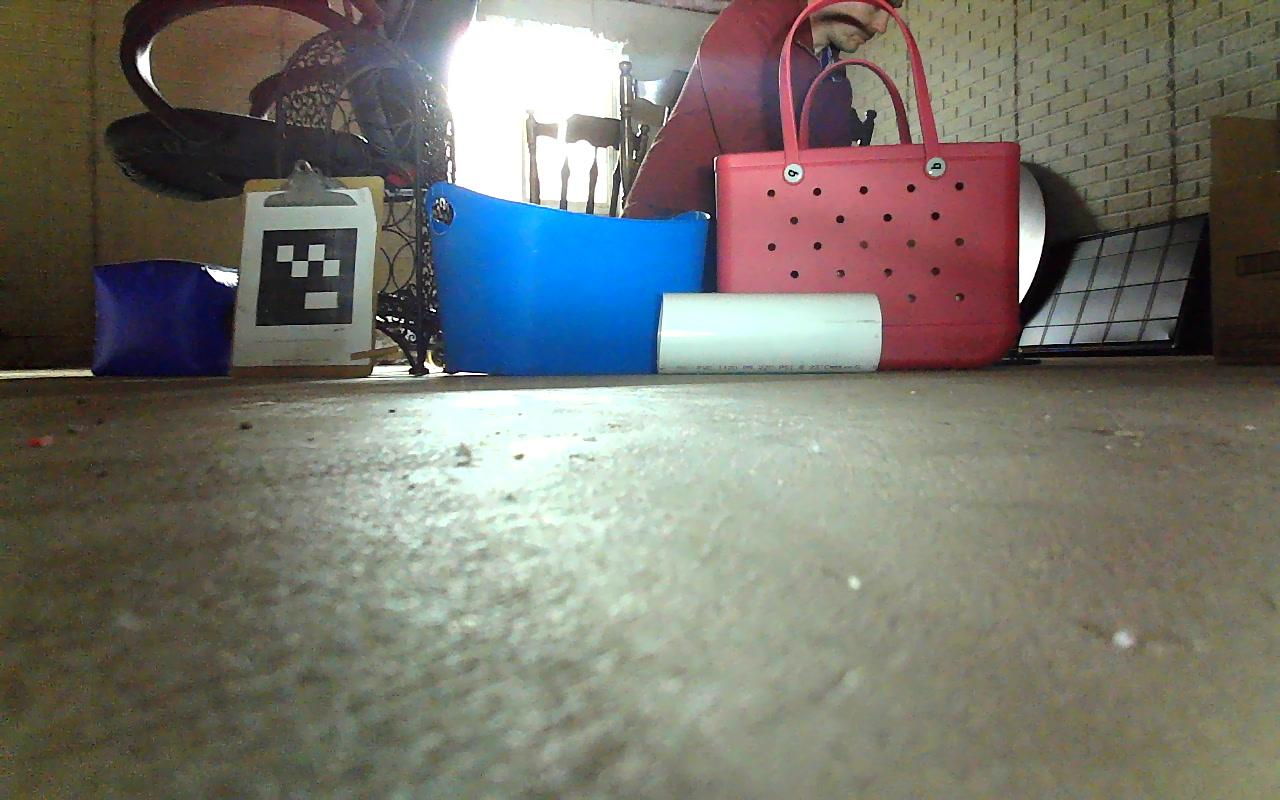coral: (649, 282, 889, 381)
